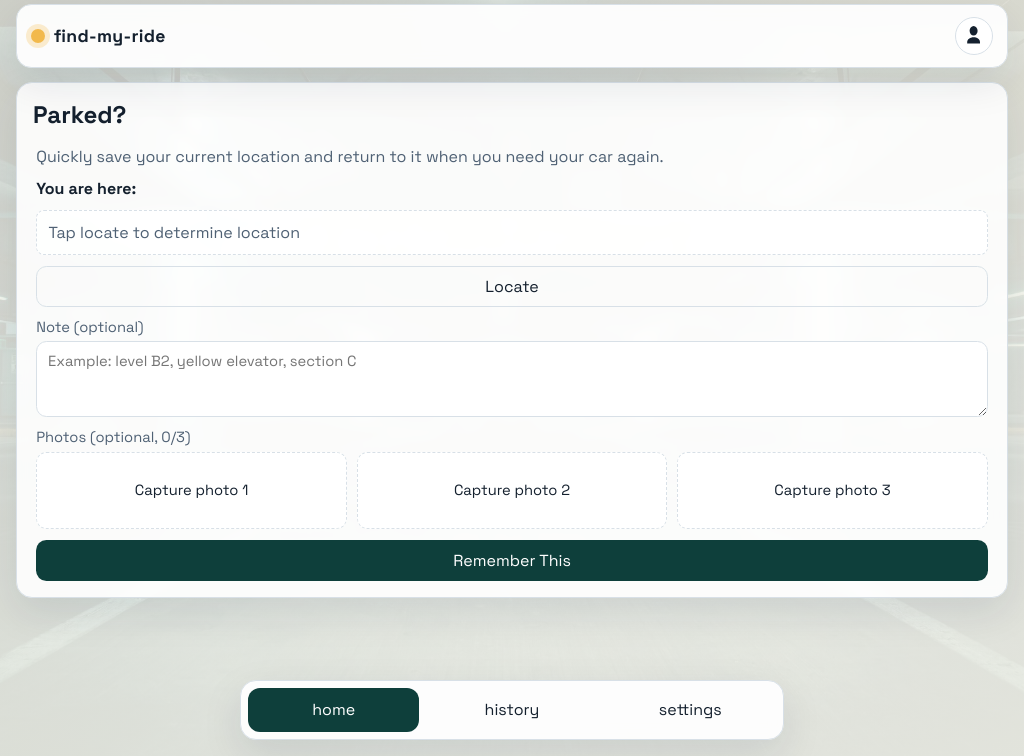
it: App tabs and settings › shows admin section and history scope selector only for admins
Step 1. Click the button "history" → coordinates (512, 710), box [426, 688, 598, 732]
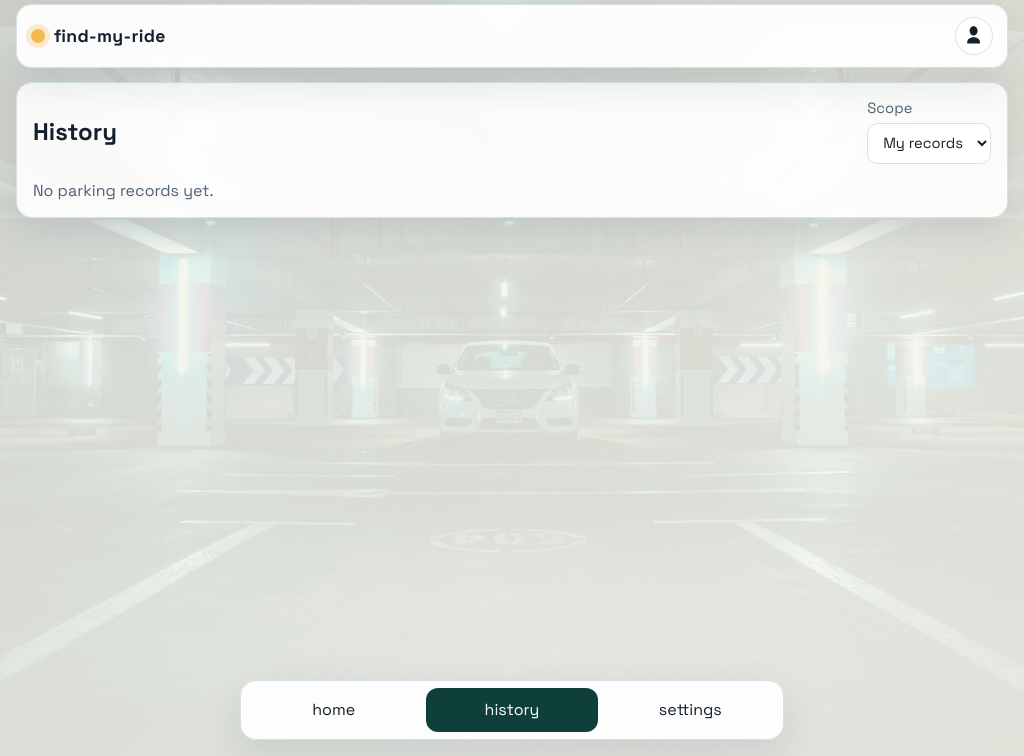
Result: the text "Scope" is shown at [867, 99, 991, 164]
Step 2. Click the button "settings" → coordinates (690, 710), box [605, 688, 776, 732]
(page scrolled)
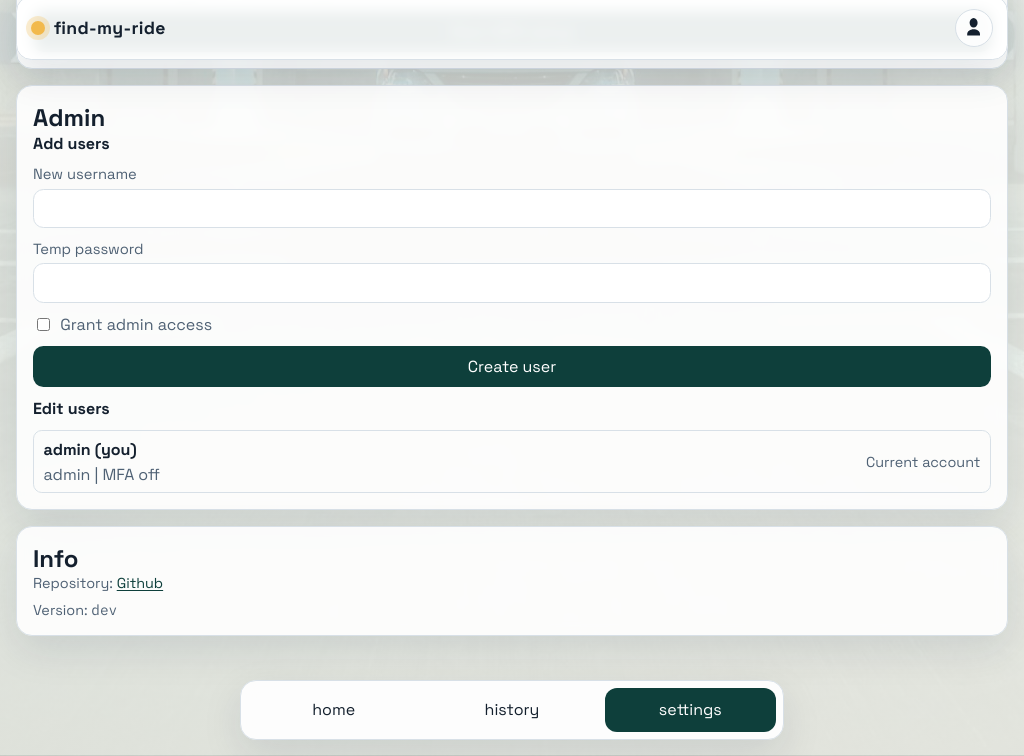
Result: the heading "Admin" is shown at [33, 102, 105, 133]
Result: the heading "Edit users" is shown at [33, 398, 110, 419]
